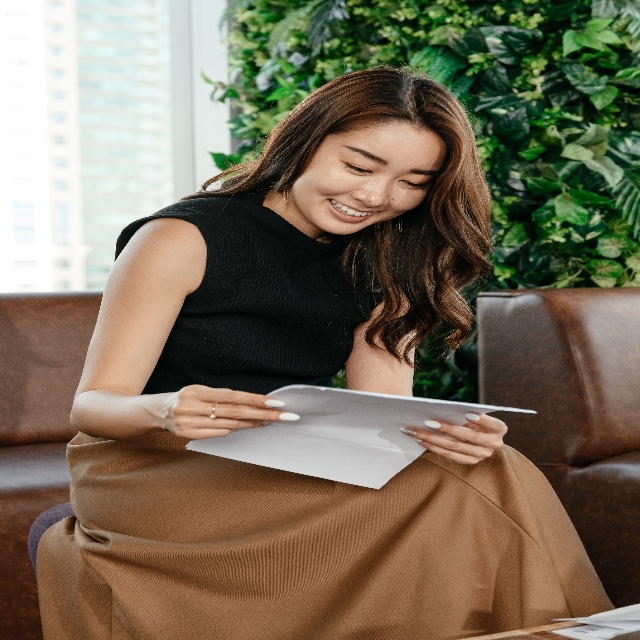Sin_guantes: (170, 380, 301, 436), (400, 406, 510, 467)
